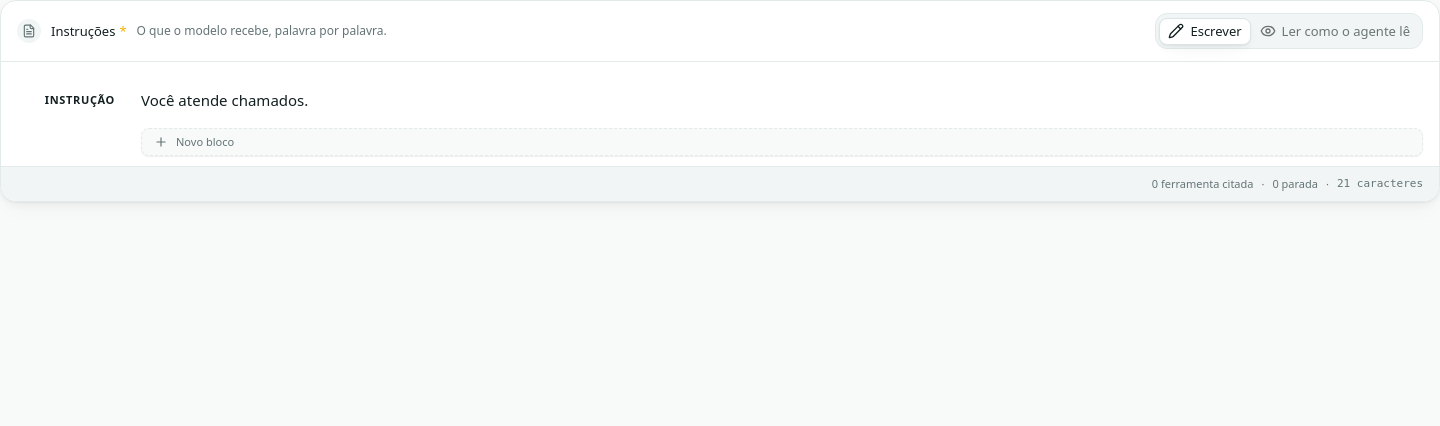
Test: adding a block › opens the menu from the button
What coordinates should you click on to do the following:
click the button "Novo bloco"
I would click on:
 (205, 142)
Its box is [141,128,1423,156].
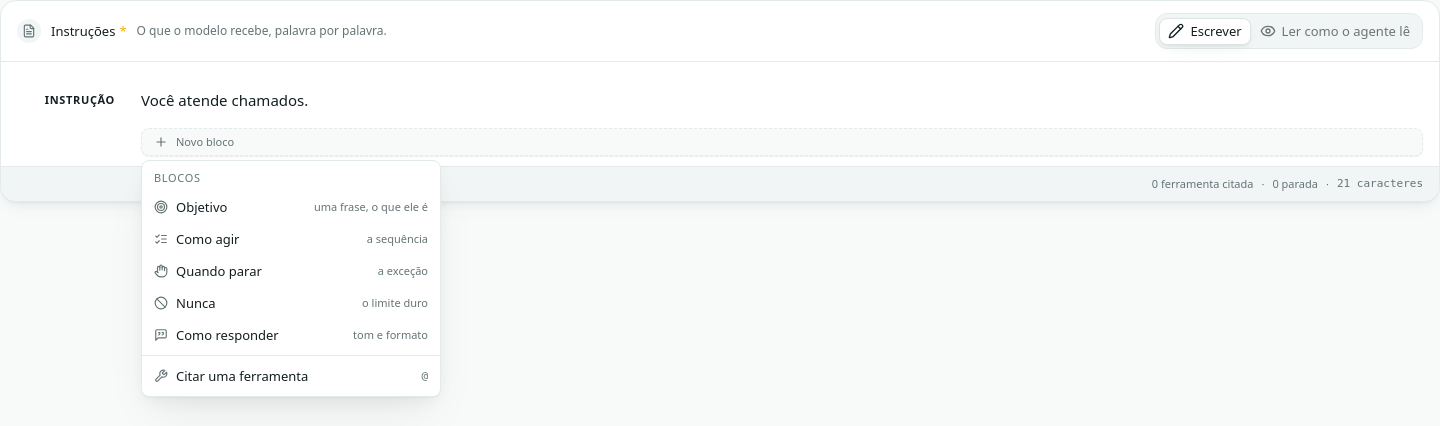
Check: the menu item "Objetivo uma frase, o que ele é" is shown, box [154,198,428,216]
